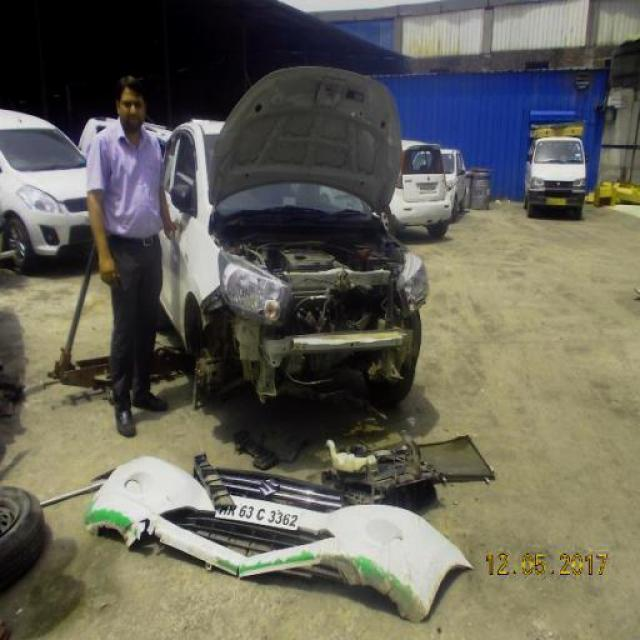Car-Damage: (209, 278, 433, 409)
